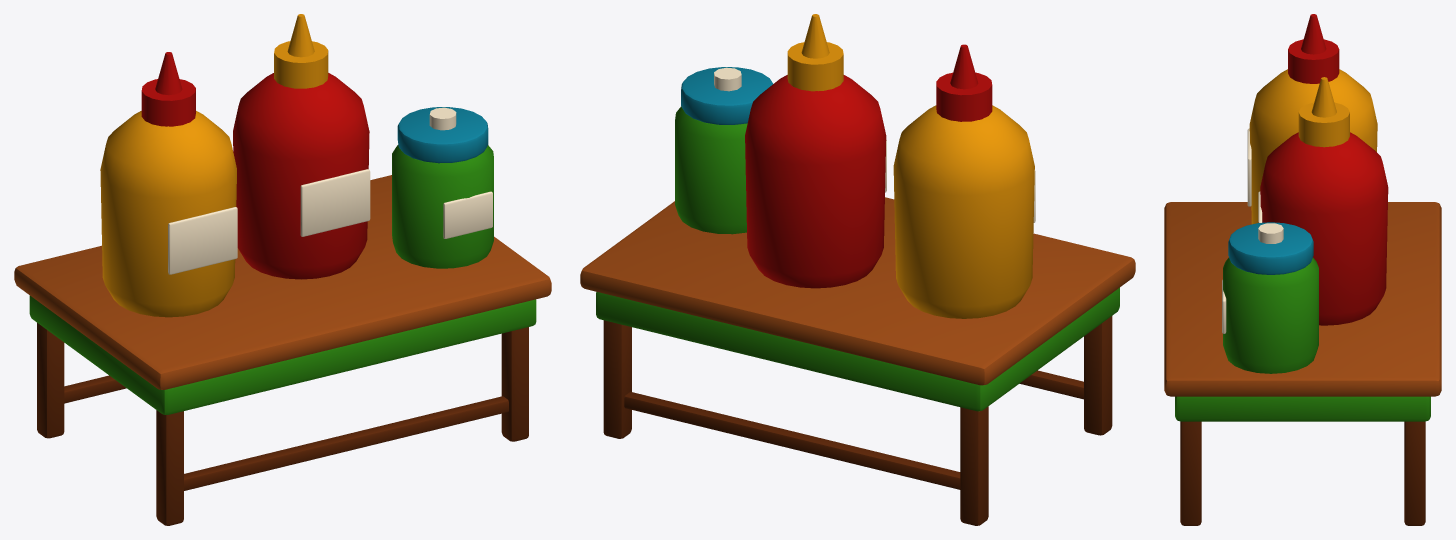
The model's file is CondimentStation.fbx.
3 views of the same model, side by side, from view 1: azimuth 30°, elevation 25°; view 2: azimuth 150°, elevation 25°; view 3: azimuth 270°, elevation 25° (orthographic). The views are drawn at different scales.
Visible parts, largest first — view 1: CondimentStation; view 2: CondimentStation; view 3: CondimentStation.
Part boxes in pixels (left/top/right/bottom): CondimentStation: left=14, top=14, right=551, bottom=525; CondimentStation: left=580, top=14, right=1135, bottom=525; CondimentStation: left=1164, top=14, right=1441, bottom=525.
Size of the model in its own units: 4 by 3.92 by 2.6.
